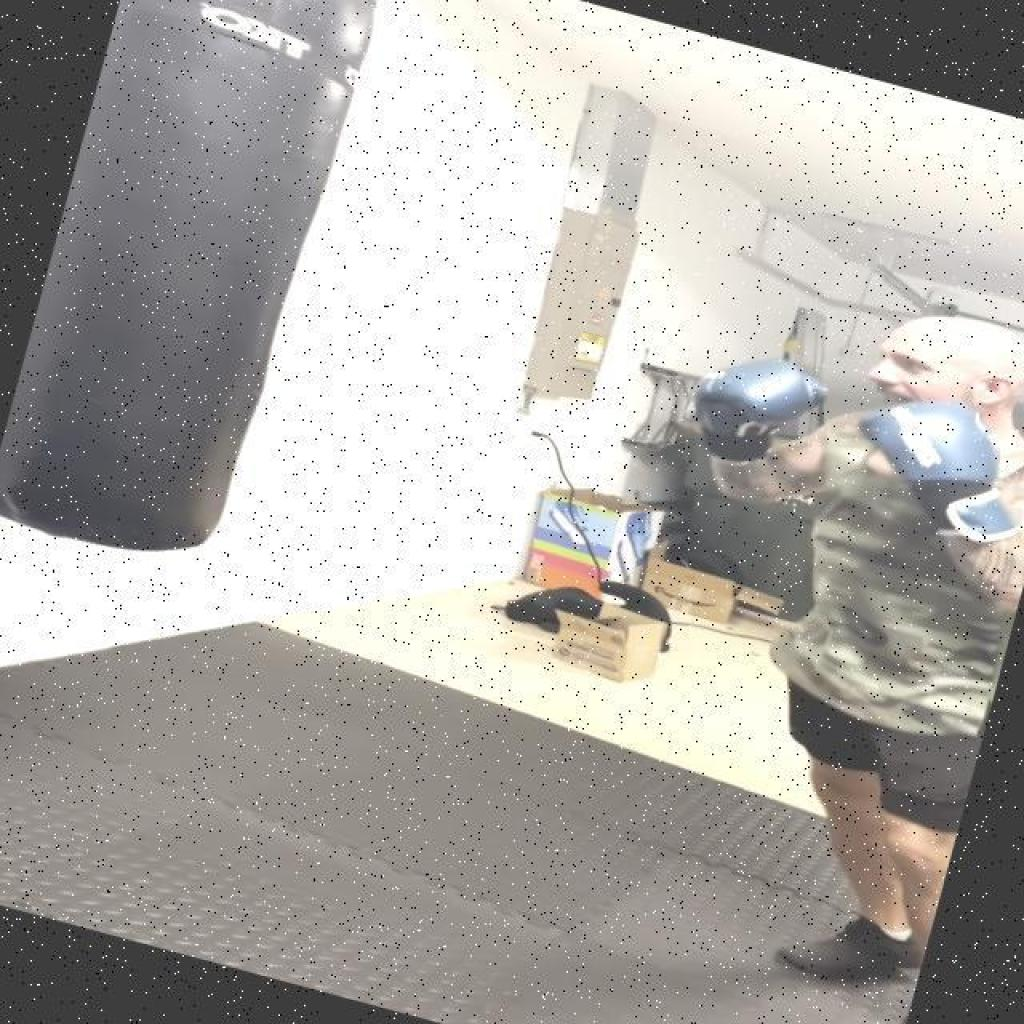bag: (0, 0, 397, 570)
no punch: (672, 235, 1024, 611)
